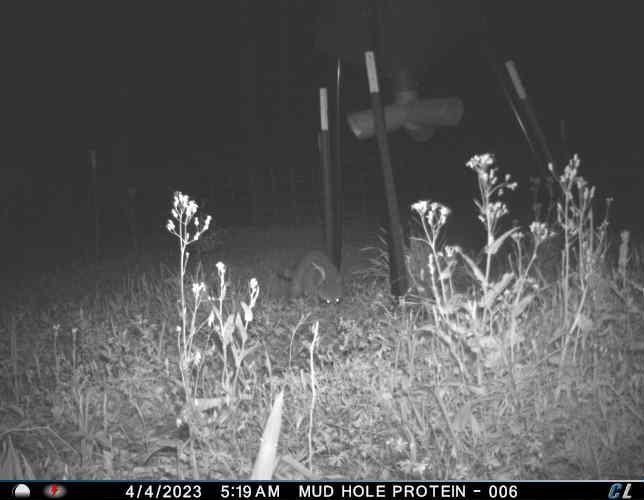Raccoon: (279, 248, 346, 314)
